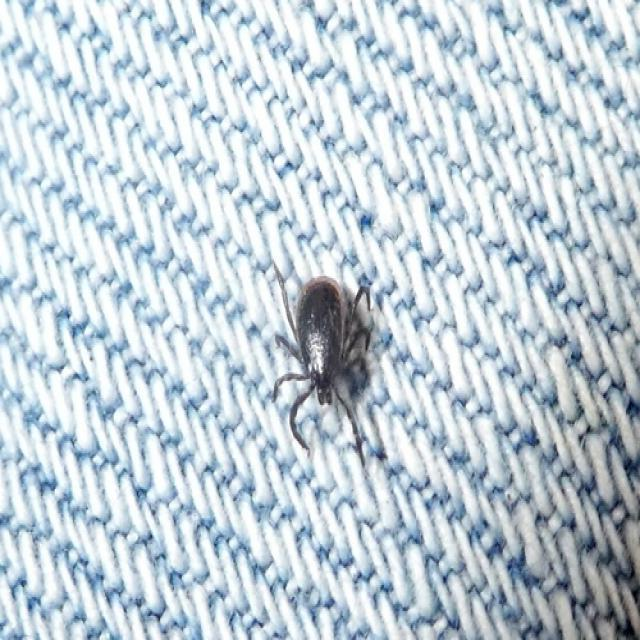Ixodes Ricinus-M: (273, 266, 375, 468)
